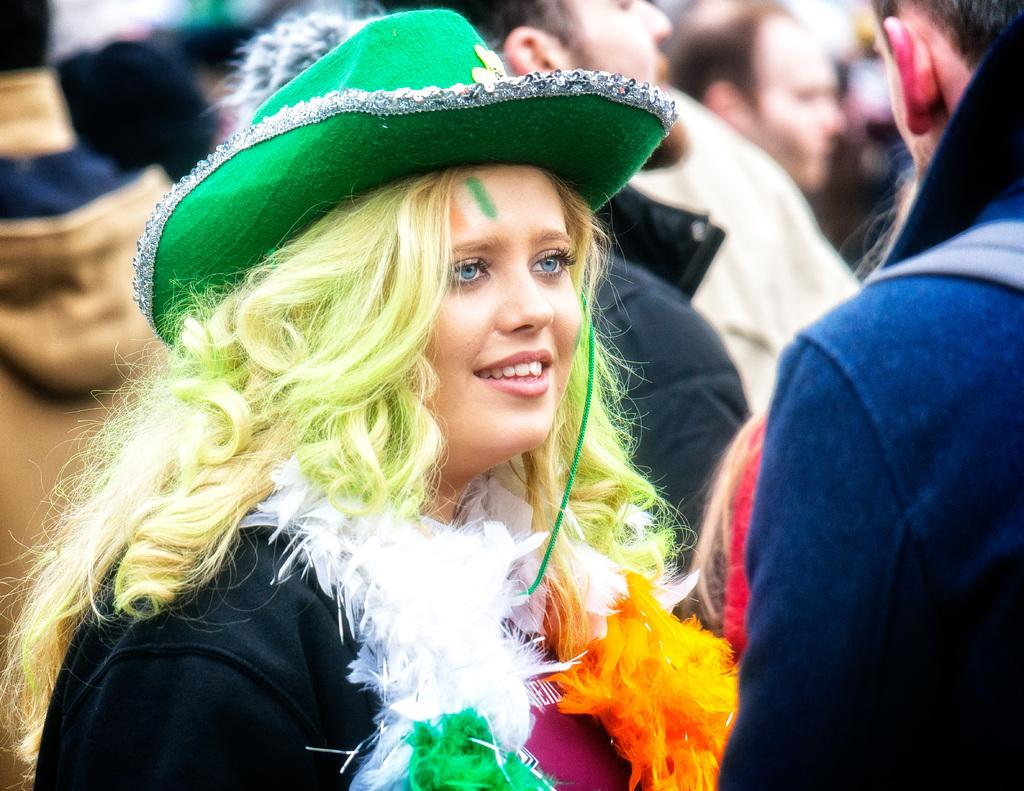Hat: (134, 9, 679, 606)
